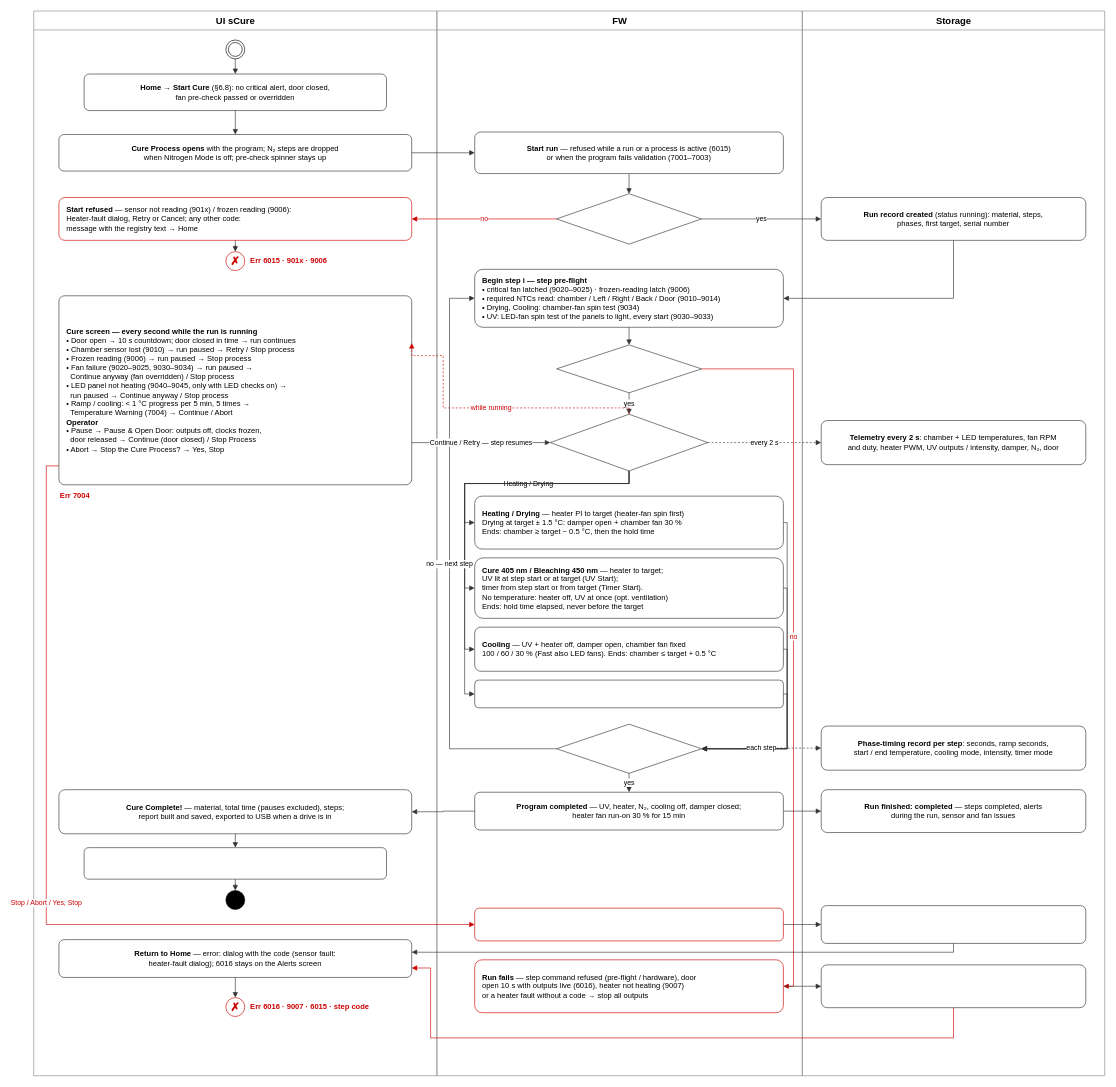
The diagram is 1116 pixels wide and 1087 high, and some of its shapes have lost their labels. The shapes that lost their labels are listed below. From the top down, each one's centre as x and y in pixels, then its label:
the point at 629,218: Start accepted?
the point at 629,368: Pre-flight passed?
the point at 629,442: Step type? (1 s tick: ramp, hold, purge)
the point at 628,693: N₂ Purge — valve open for a fixed 120 s, nothing else switched
the point at 629,748: Last step done?
the point at 235,863: Open Door → door magnet released for 2 s → Home
the point at 628,924: Abort — stop all outputs (heater fan run-on)
the point at 953,924: Run finished: aborted (no code) — steps completed, alerts
the point at 953,986: Run finished: error + code; the failure is added to the run's alerts
